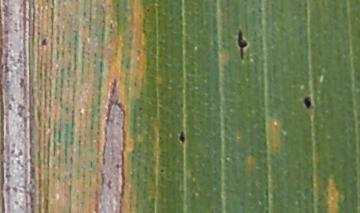tarspot: (237, 28, 249, 61), (303, 95, 312, 110), (177, 130, 186, 143), (38, 36, 48, 46), (158, 167, 166, 174), (137, 104, 144, 112), (114, 161, 120, 168)
